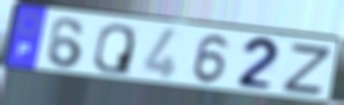2: (232, 36, 285, 94)
4: (141, 26, 181, 84)
6: (45, 16, 88, 72), (192, 33, 231, 86)
Q: (92, 23, 137, 77)
Z: (278, 43, 336, 98)
